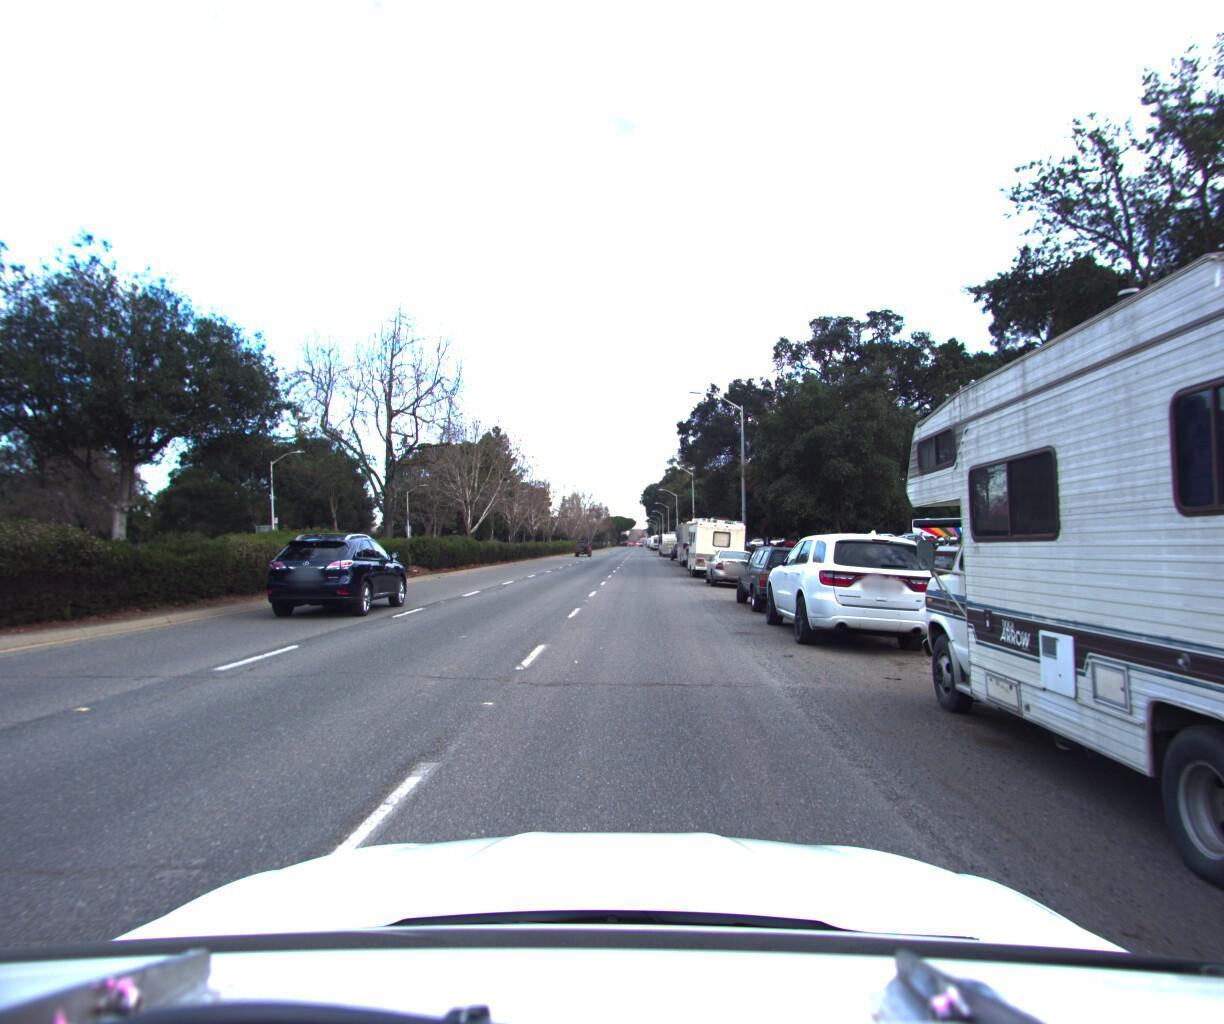car: (755, 521, 958, 649), (263, 524, 417, 615), (727, 535, 854, 608), (698, 540, 762, 583)
other_vehicle: (680, 507, 754, 573), (671, 509, 726, 562)
